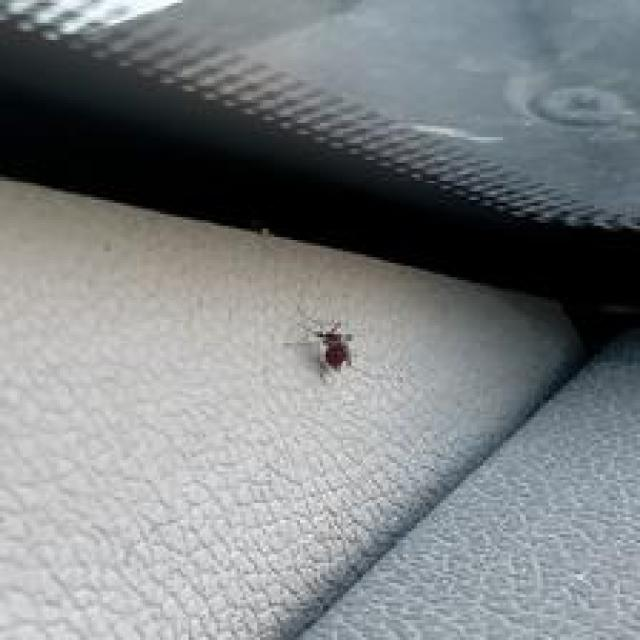Aedes albopictus: (312, 320, 354, 374)
